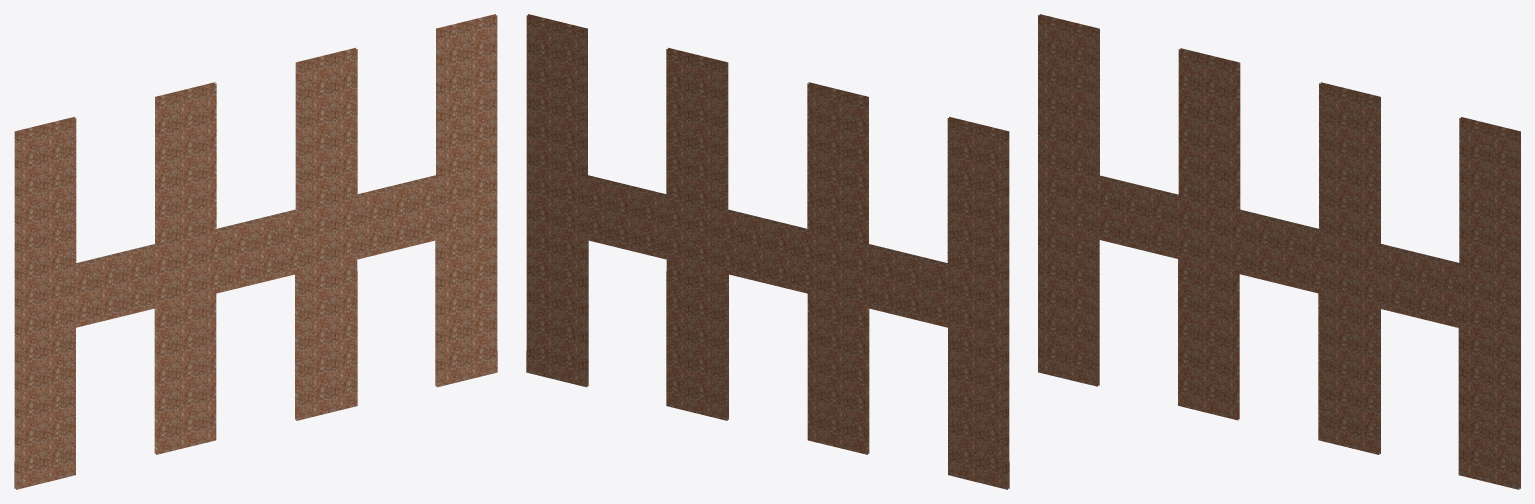
Rendered from floor_1.obj.
The picture shows the model from 3 angles, left to right: view 1: azimuth 30°, elevation 25°; view 2: azimuth 150°, elevation 25°; view 3: azimuth 330°, elevation 25°; orthographic projection.
Visible parts, largest first — view 1: floor_1; view 2: floor_1; view 3: floor_1.
Part boxes in pixels (<box>): floor_1: <box>14,14,497,489</box>; floor_1: <box>526,14,1009,489</box>; floor_1: <box>1038,14,1520,489</box>.
Size of the model in its own units: 18.19 by 12.93 by 0.1.
